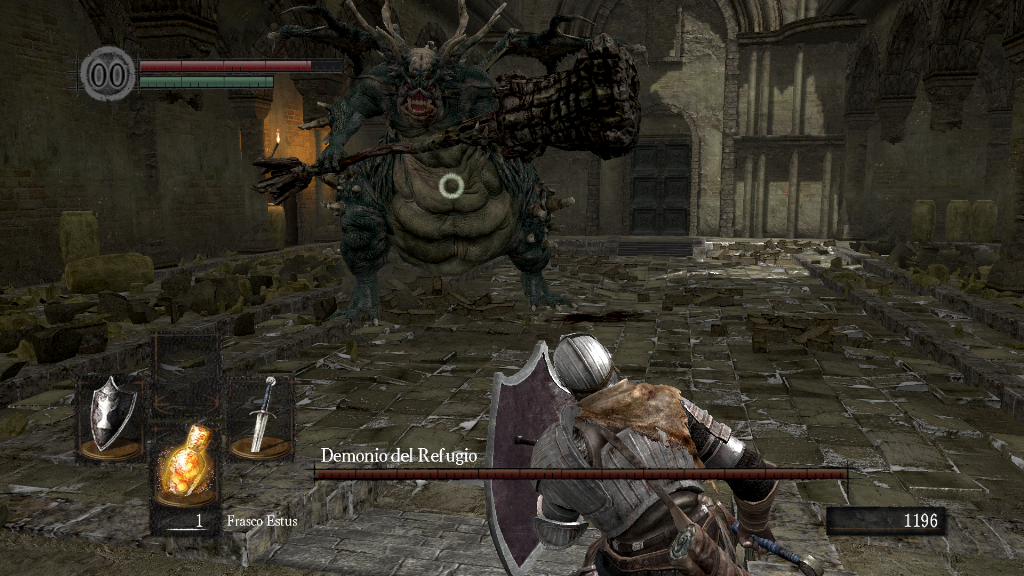asylumDemon: (253, 3, 648, 331)
bossHP: (314, 469, 847, 479)
health: (138, 58, 343, 71)
humanity: (80, 45, 136, 102)
player: (484, 331, 825, 576)
souls: (825, 506, 945, 536)
stamina: (138, 74, 274, 88)
